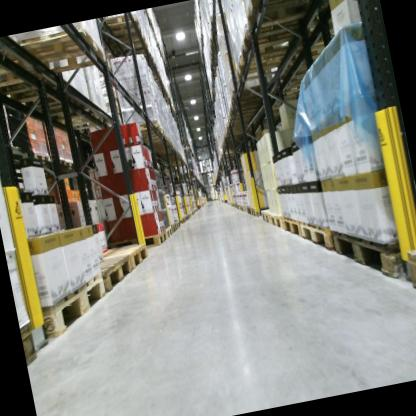pallet: (327, 215, 408, 295), (14, 23, 109, 86), (31, 268, 113, 339), (0, 29, 65, 95), (233, 13, 309, 61), (0, 69, 76, 115), (26, 85, 94, 130), (232, 45, 293, 87), (241, 0, 326, 30), (85, 250, 137, 296), (98, 238, 150, 276), (55, 104, 112, 136), (297, 212, 337, 256), (227, 81, 280, 110), (96, 14, 144, 46), (114, 228, 168, 253), (102, 34, 150, 59), (19, 319, 41, 371), (401, 244, 416, 307), (279, 211, 304, 243), (132, 120, 166, 139), (136, 128, 168, 145), (32, 146, 53, 167), (148, 136, 172, 151), (258, 205, 274, 226), (49, 151, 67, 168), (269, 210, 283, 231), (62, 158, 78, 171), (250, 205, 264, 219), (163, 225, 174, 241), (170, 221, 178, 233), (246, 204, 252, 216), (242, 202, 248, 213), (178, 216, 186, 224), (175, 219, 181, 229), (239, 203, 245, 212), (184, 214, 188, 221), (186, 213, 189, 220)
